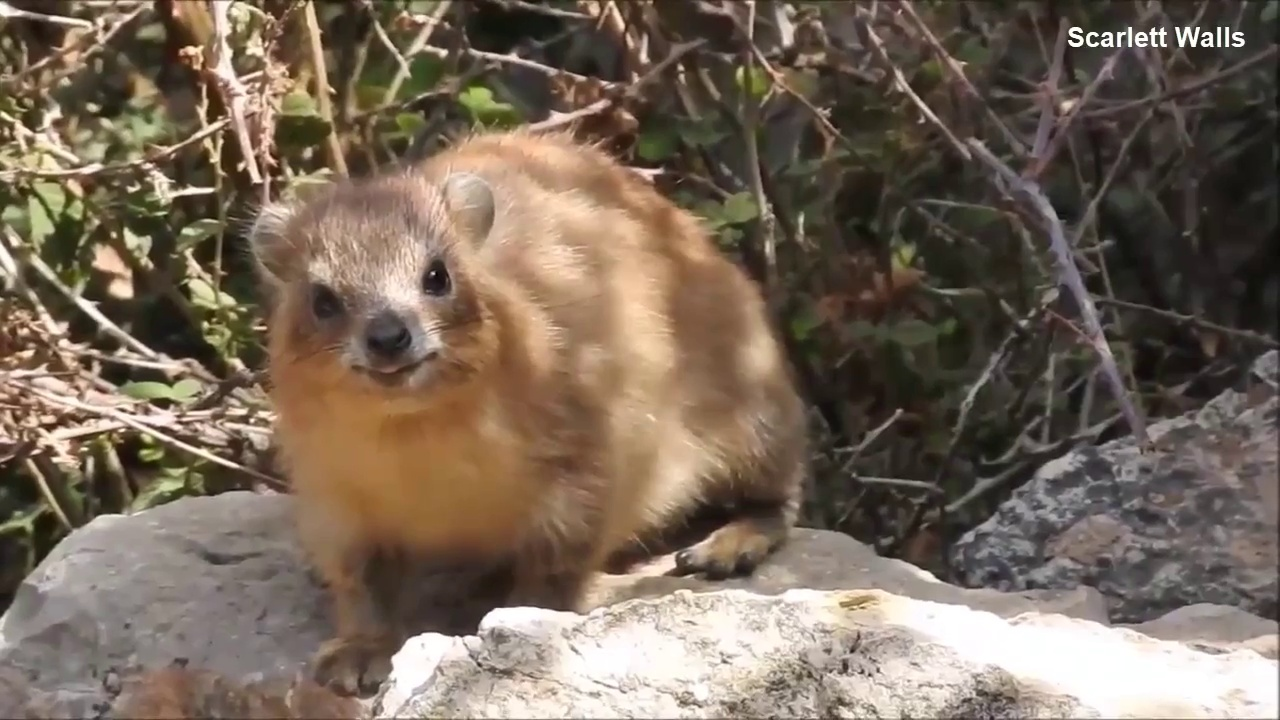Rock Hyrex: (255, 126, 807, 681)
